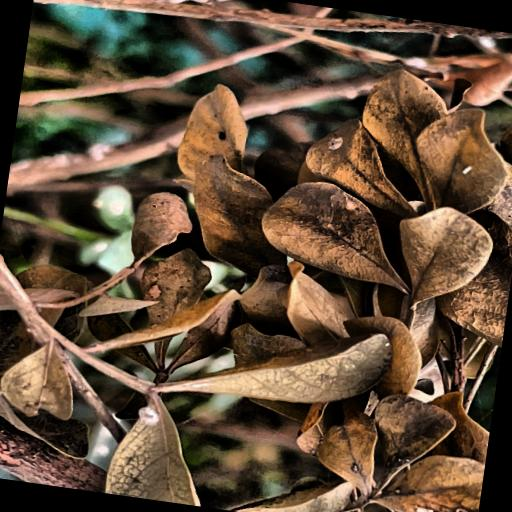la heo: (98, 95, 512, 512)
